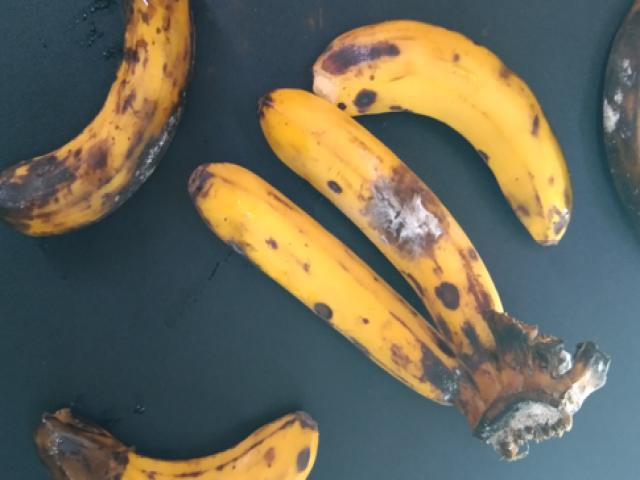ripe: (179, 160, 439, 423), (298, 13, 581, 247)
rotten: (7, 0, 211, 246), (24, 383, 368, 479), (599, 0, 639, 272)
